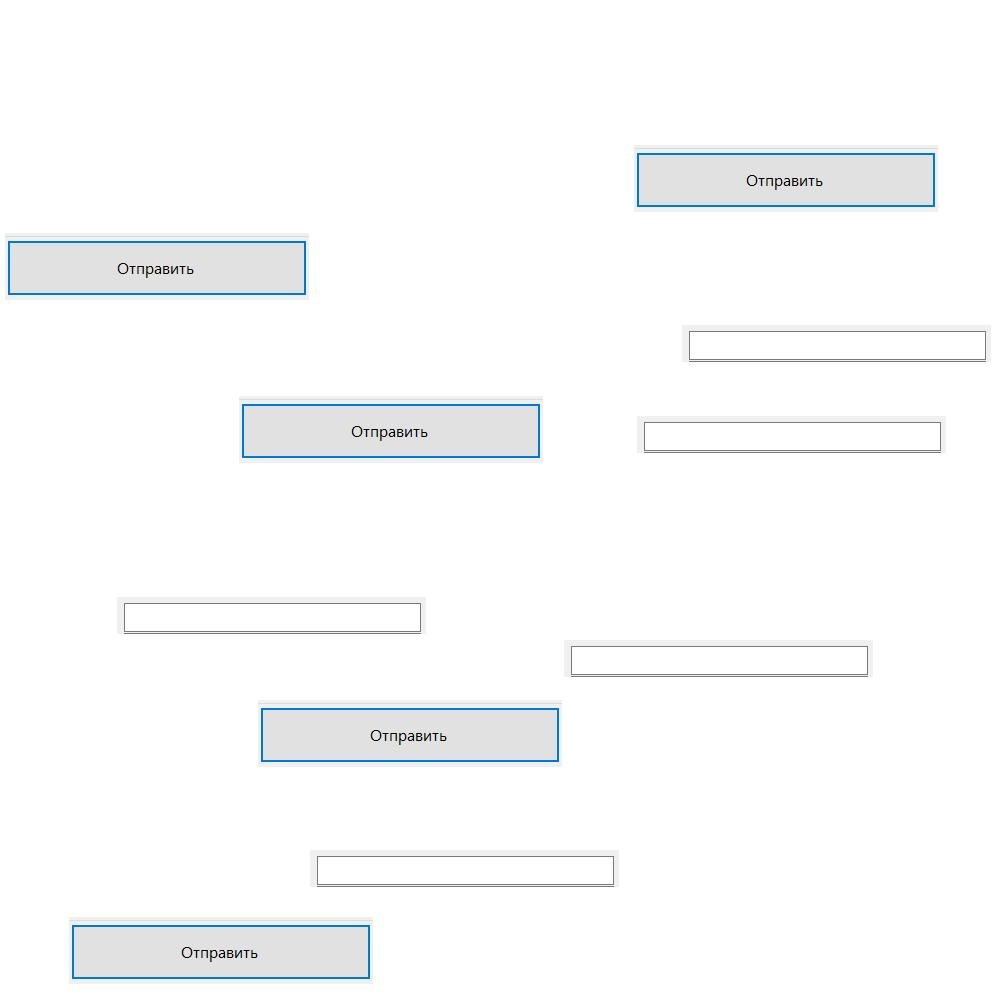Button: (5, 233, 309, 300), (258, 700, 562, 767), (69, 917, 373, 984), (634, 145, 938, 212), (239, 396, 543, 463)
EditText-: (682, 325, 991, 362), (637, 416, 946, 453), (564, 640, 873, 677), (117, 597, 426, 634), (310, 850, 619, 887)
